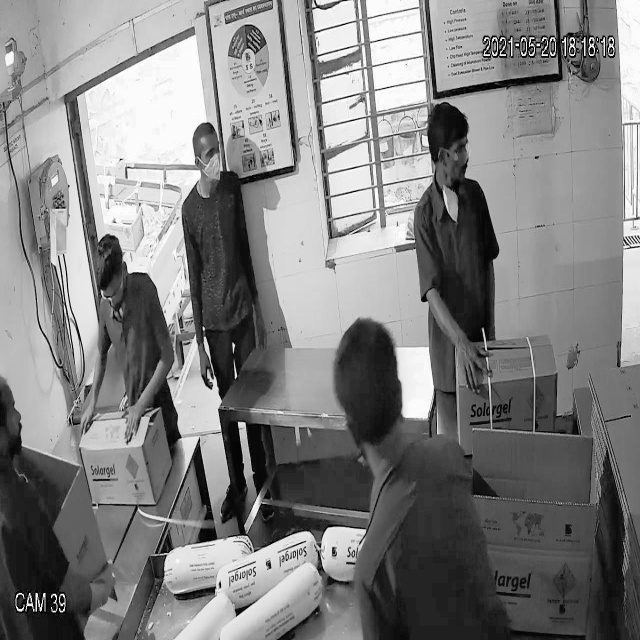Gafas: (432, 140, 477, 166)
Sin_gafas: (190, 142, 226, 172)
